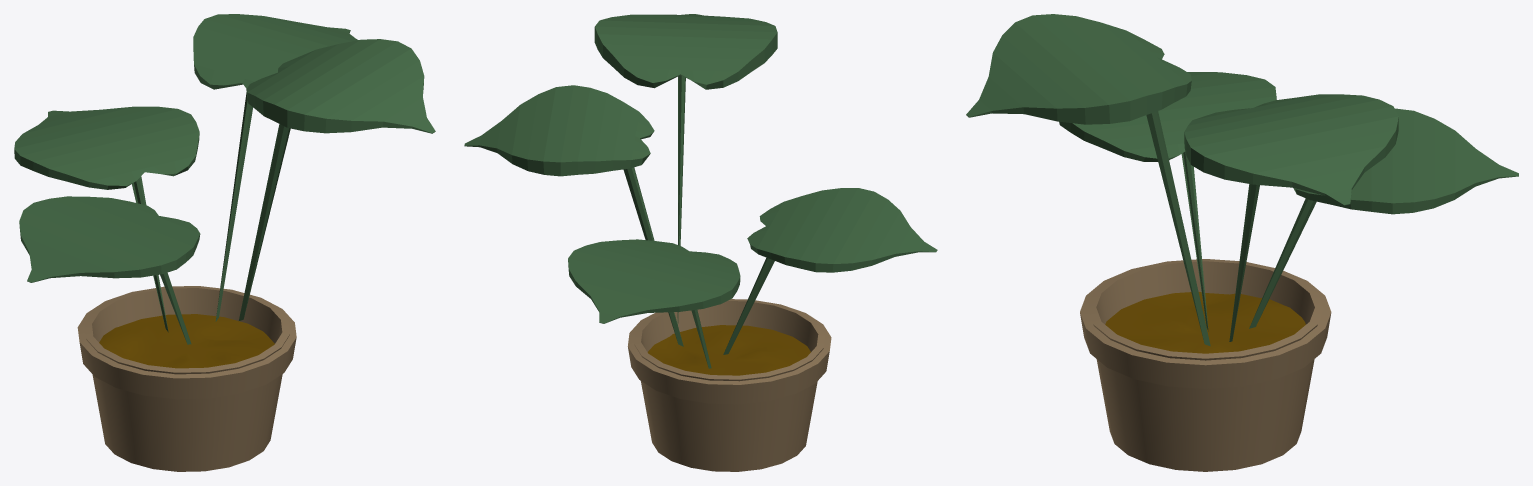
File: plant.fbx
3 renders of one model, left to right at view 1: azimuth 30°, elevation 25°; view 2: azimuth 150°, elevation 25°; view 3: azimuth 270°, elevation 25°, orthographic. The views are drawn at different scales.
Parts seen in each view (by area): view 1: plant; view 2: plant; view 3: plant.
Boxes of the visible parts, x1,y1,x2,y2 form: plant: (14,14,435,471); plant: (464,14,937,471); plant: (966,14,1518,471).
Bounding box in the file's own units: 6.21 × 5.37 × 6.27.
